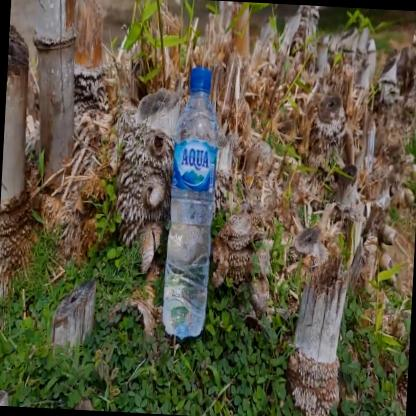plastic_bottles: (160, 58, 226, 338)
